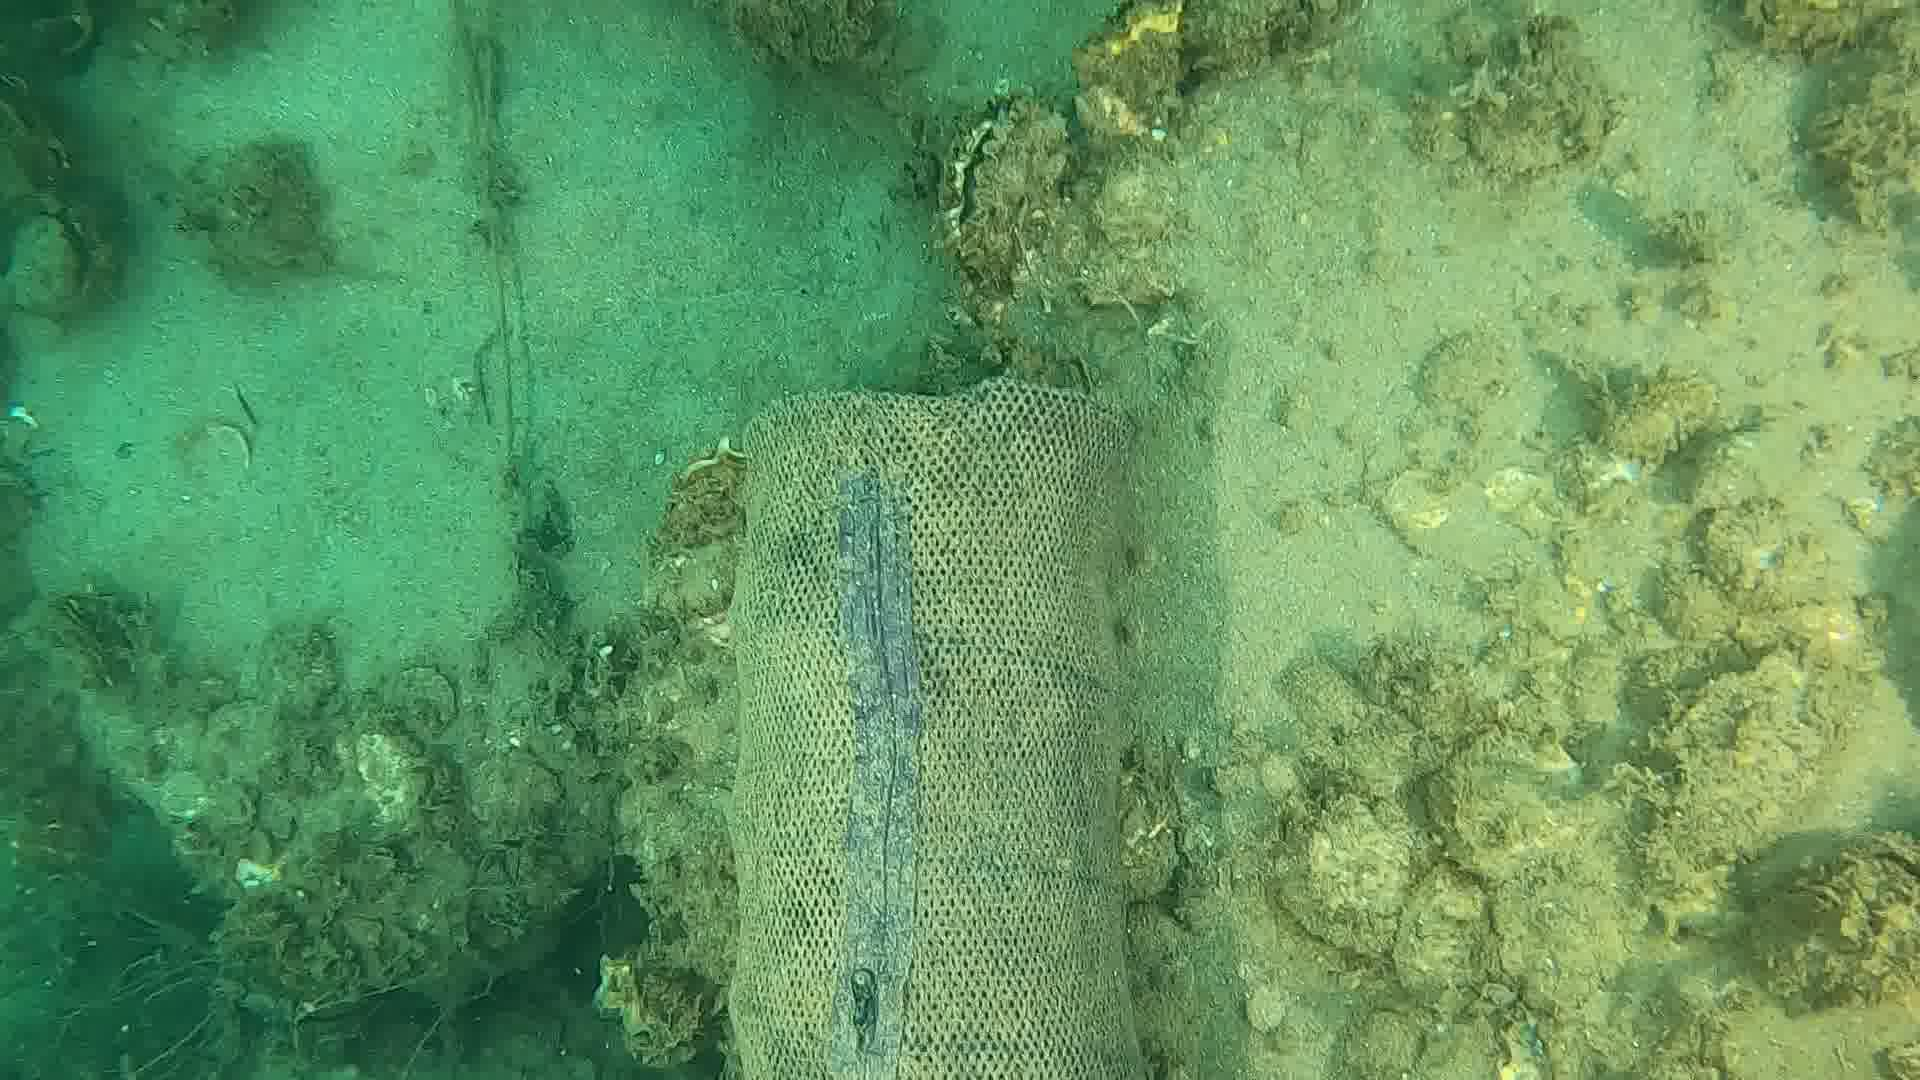spring fish trap: (727, 380, 1162, 1080)
